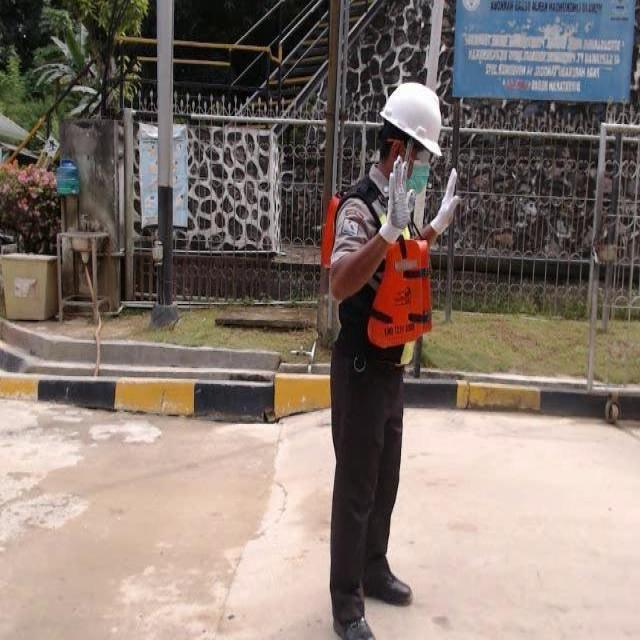helmet: (370, 73, 457, 151)
jacket: (314, 178, 451, 348)
